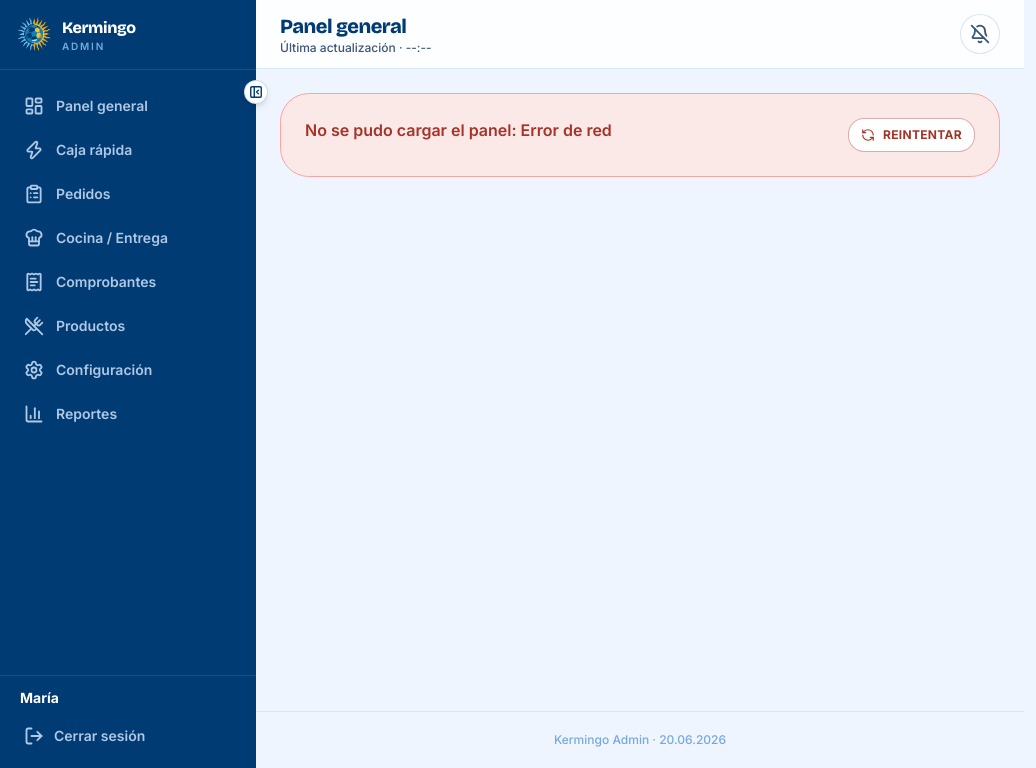
Test case: DashboardScreen › shows API error and allows retry
This screenshot has width=1036, height=768.
Expected: the text "No se pudo cargar el panel: Error de red" is shown, [305, 118, 612, 142]
Click the button "Reintentar": (912, 135) [848, 118, 975, 152]
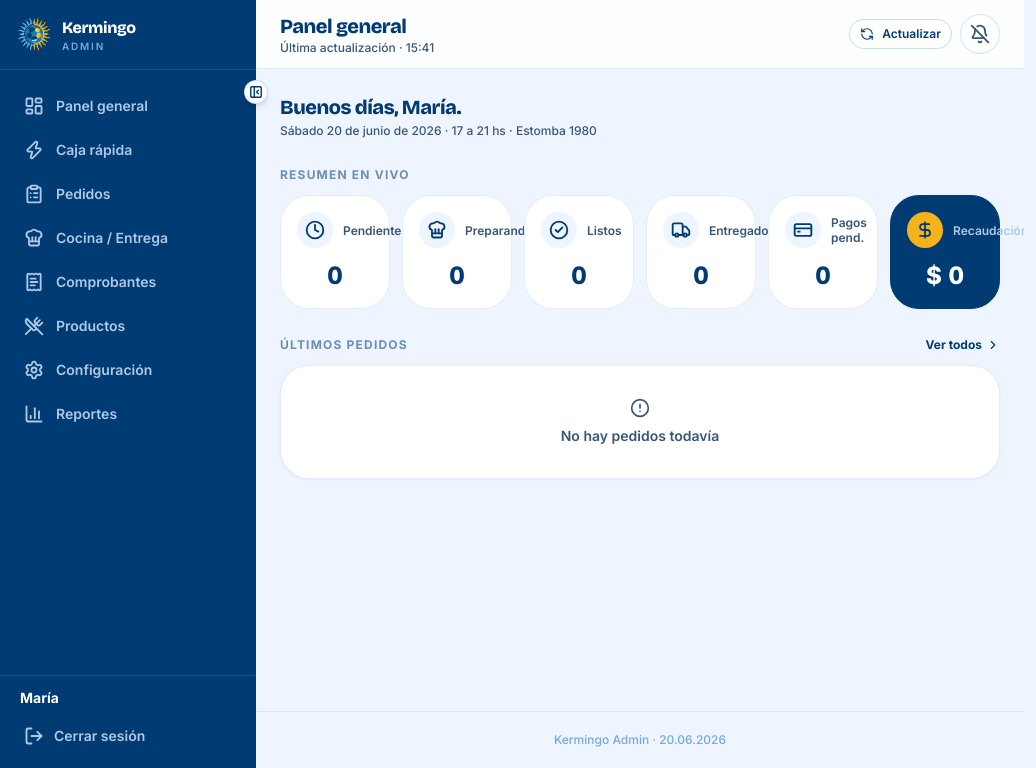
Expected: the text "No hay pedidos todavía" is shown, [561, 426, 719, 446]
